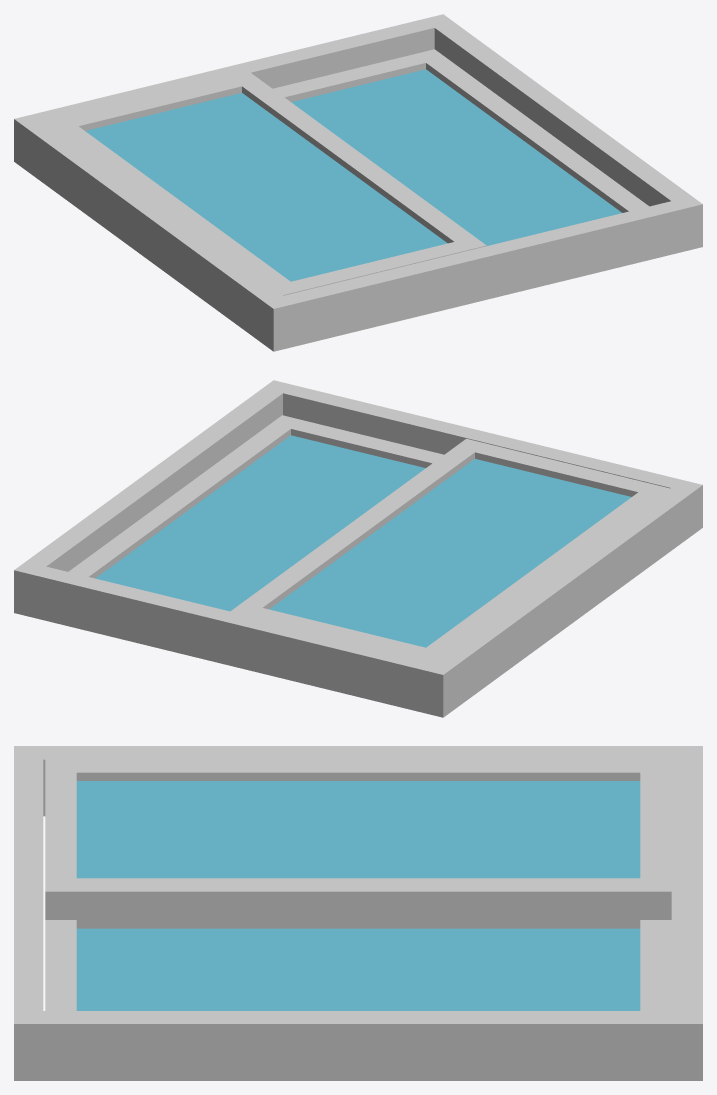
Rendered from 900 Series Door.fbx.
3 renders of one model, top to bottom at view 1: azimuth 30°, elevation 25°; view 2: azimuth 150°, elevation 25°; view 3: azimuth 270°, elevation 25°, orthographic. The views are drawn at different scales.
Parts seen in each view (by area): view 1: Body7, Body4, Body2, Body3, Body1; view 2: Body7, Body4, Body2, Body3, Body1; view 3: Body7, Body4, Body2, Body3, Body1.
Boxes of the visible parts, x1,y1,x2,y2 form: Body7: (14, 14, 702, 351); Body4: (85, 93, 447, 281); Body2: (291, 69, 621, 245); Body3: (46, 72, 486, 295); Body1: (273, 49, 648, 212); Body7: (14, 380, 702, 717); Body4: (269, 459, 631, 647); Body2: (95, 435, 425, 611); Body3: (230, 438, 670, 661); Body1: (68, 415, 443, 578); Body7: (14, 746, 702, 1080); Body4: (76, 781, 640, 878); Body2: (76, 928, 640, 1010); Body3: (45, 759, 671, 919); Body1: (45, 920, 671, 1010).
Bounding box in the file's own units: 10.5 × 1.01 × 11.
